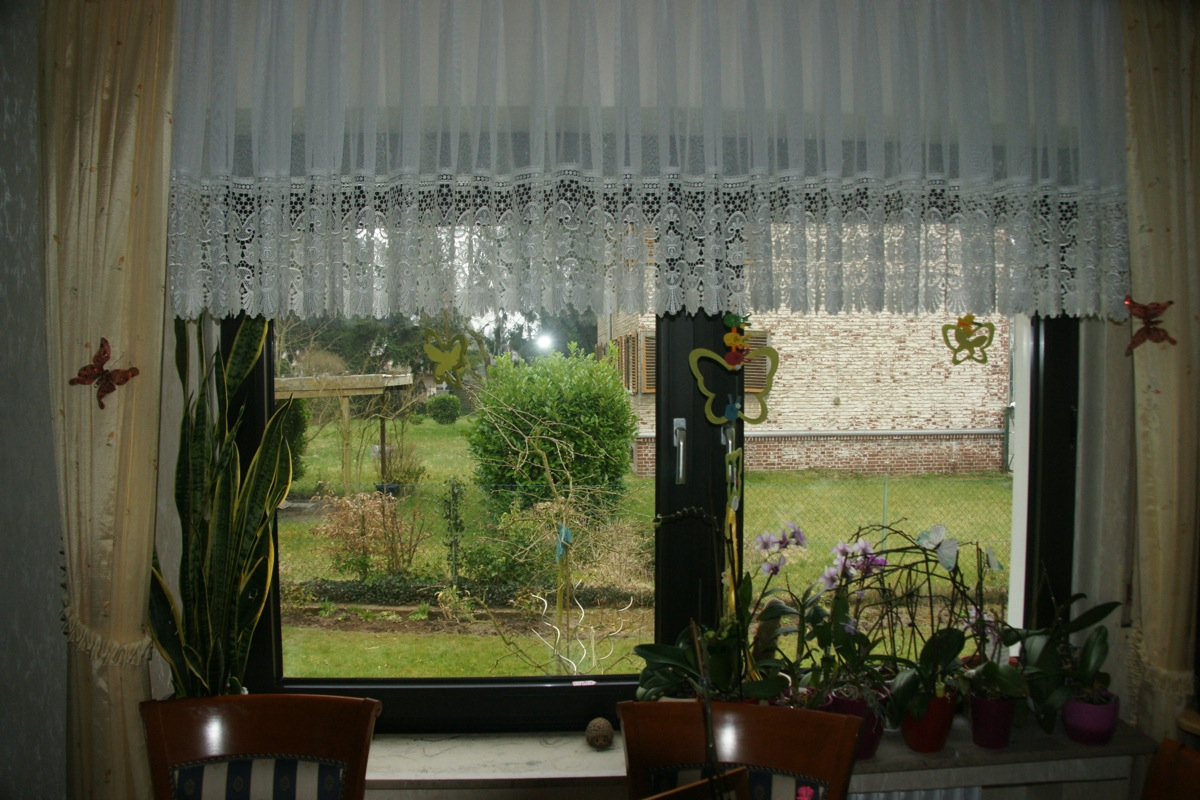windows: (128, 9, 1071, 685)
